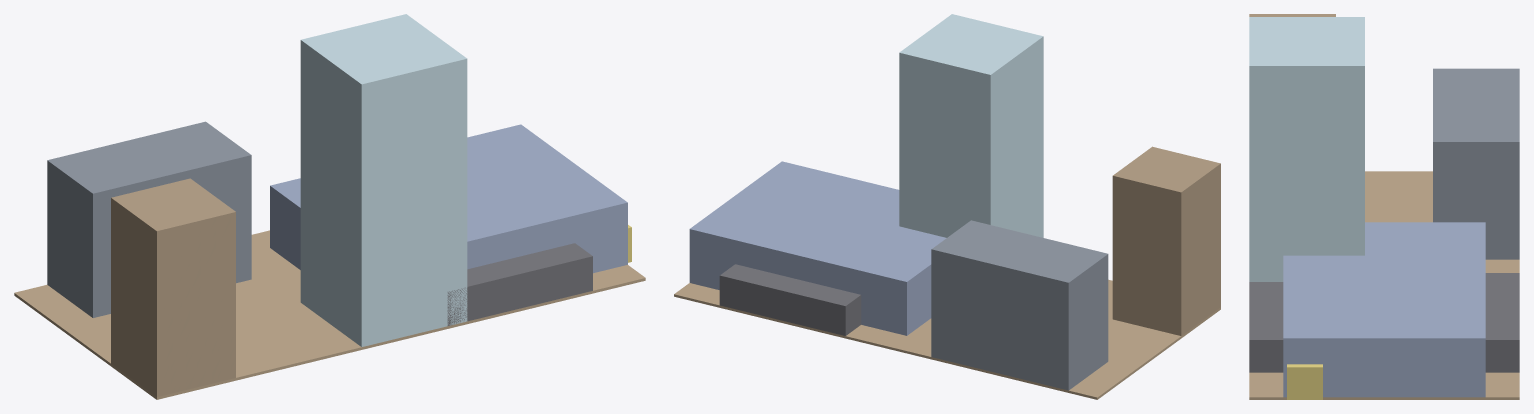
File: van-amenagement-demo.glb
The picture shows the model from 3 angles, left to right: view 1: azimuth 30°, elevation 25°; view 2: azimuth 150°, elevation 25°; view 3: azimuth 270°, elevation 25°; orthographic projection. The views are drawn at different scales.
Parts seen in each view (by area): view 1: Colonne douche, Penderie, Lit fixe 190x140, Meuble cuisine, Plancher, Passage de roue droit; view 2: Colonne douche, Lit fixe 190x140, Meuble cuisine, Penderie, Plancher, Passage de roue gauche; view 3: Lit fixe 190x140, Colonne douche, Meuble cuisine, Plancher, Passage de roue gauche, Passage de roue droit, Batterie lithium, Penderie.
Part boxes in pixels (x1,y1,x2,y2): Colonne douche: [300, 14, 467, 346]; Penderie: [111, 178, 235, 396]; Lit fixe 190x140: [270, 124, 627, 273]; Meuble cuisine: [47, 121, 251, 317]; Plancher: [14, 230, 645, 399]; Passage de roue droit: [447, 243, 592, 325]; Colonne douche: [899, 14, 1043, 237]; Lit fixe 190x140: [689, 161, 946, 335]; Meuble cuisine: [931, 220, 1108, 390]; Penderie: [1112, 146, 1220, 335]; Plancher: [674, 279, 1220, 399]; Passage de roue gauche: [719, 264, 861, 335]; Lit fixe 190x140: [1283, 222, 1485, 397]; Colonne douche: [1249, 17, 1364, 281]; Meuble cuisine: [1433, 68, 1519, 259]; Plancher: [1249, 171, 1519, 399]; Passage de roue gauche: [1485, 273, 1519, 372]; Passage de roue droit: [1249, 282, 1283, 372]; Batterie lithium: [1287, 364, 1322, 399]; Penderie: [1249, 14, 1335, 16].
Bounding box in the file's own units: 3.75 × 1.92 × 1.87.
